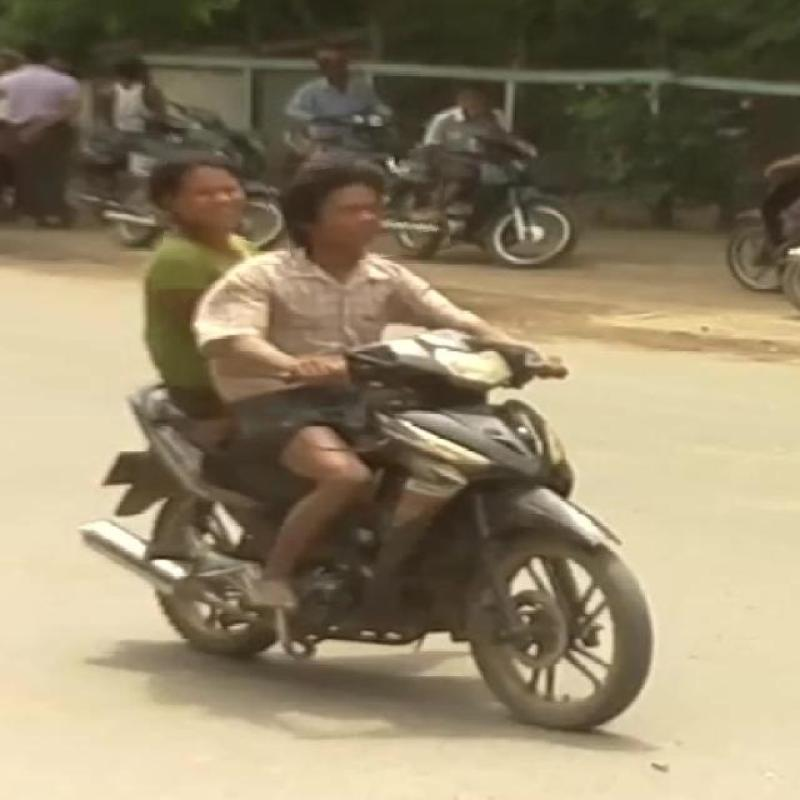nohelmet: (282, 150, 448, 264), (164, 128, 272, 250)
